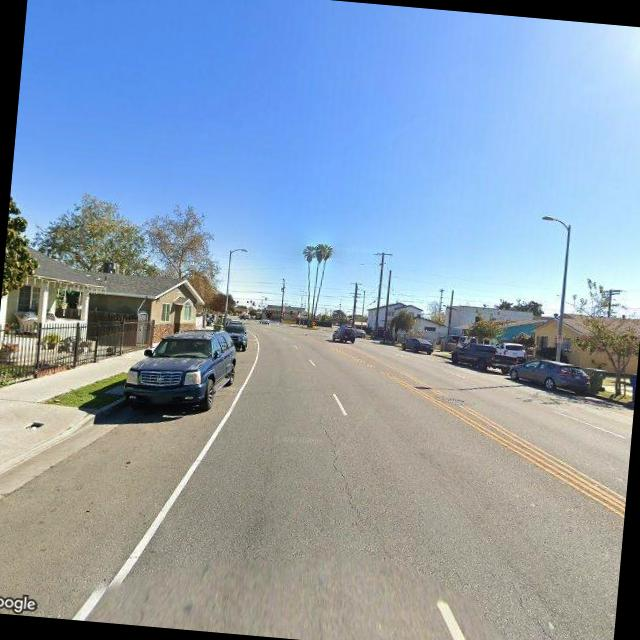pothole: (307, 415, 368, 523), (500, 580, 565, 640)
